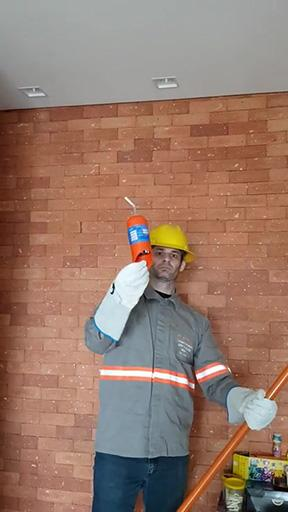Detector_Tensao_Contato: (121, 195, 154, 270)
